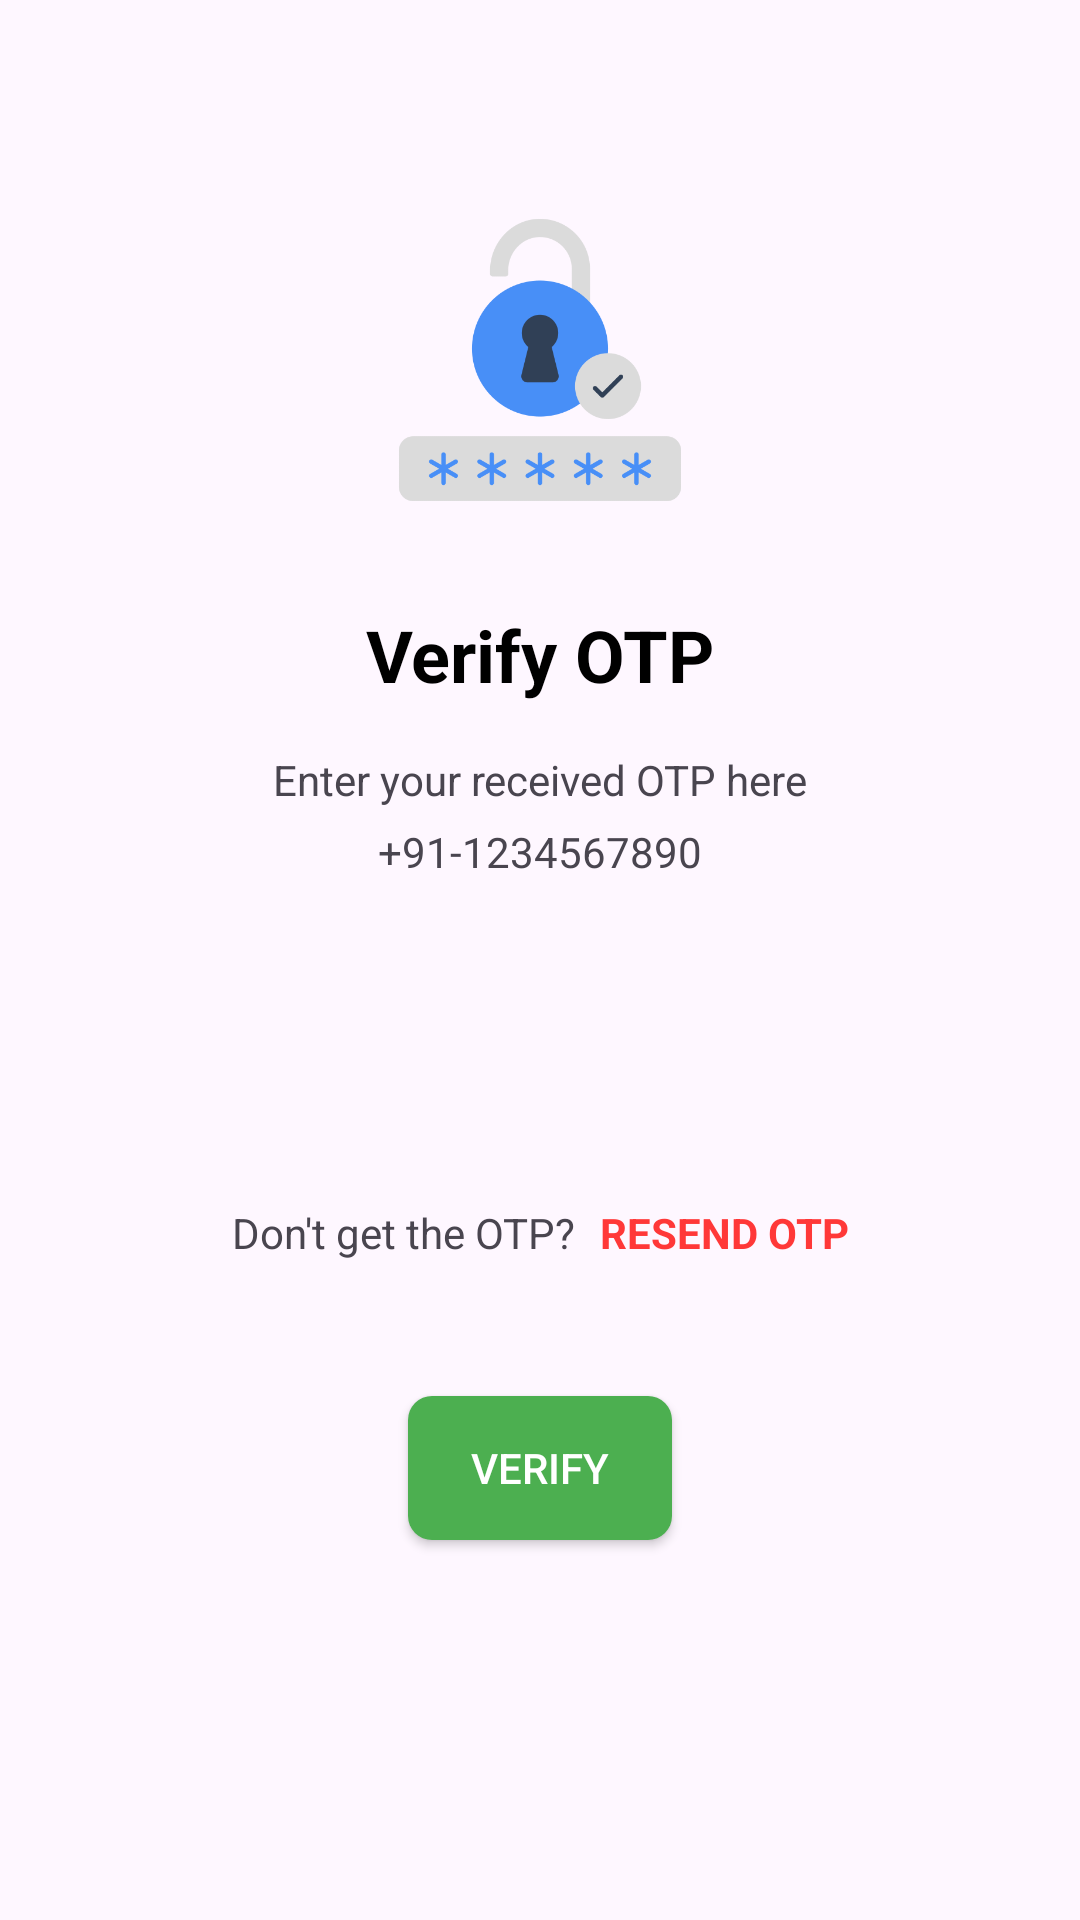

Icons on this 1080x1920 Android screen, each with the point to tap as (x,y):
password: (540,360)
